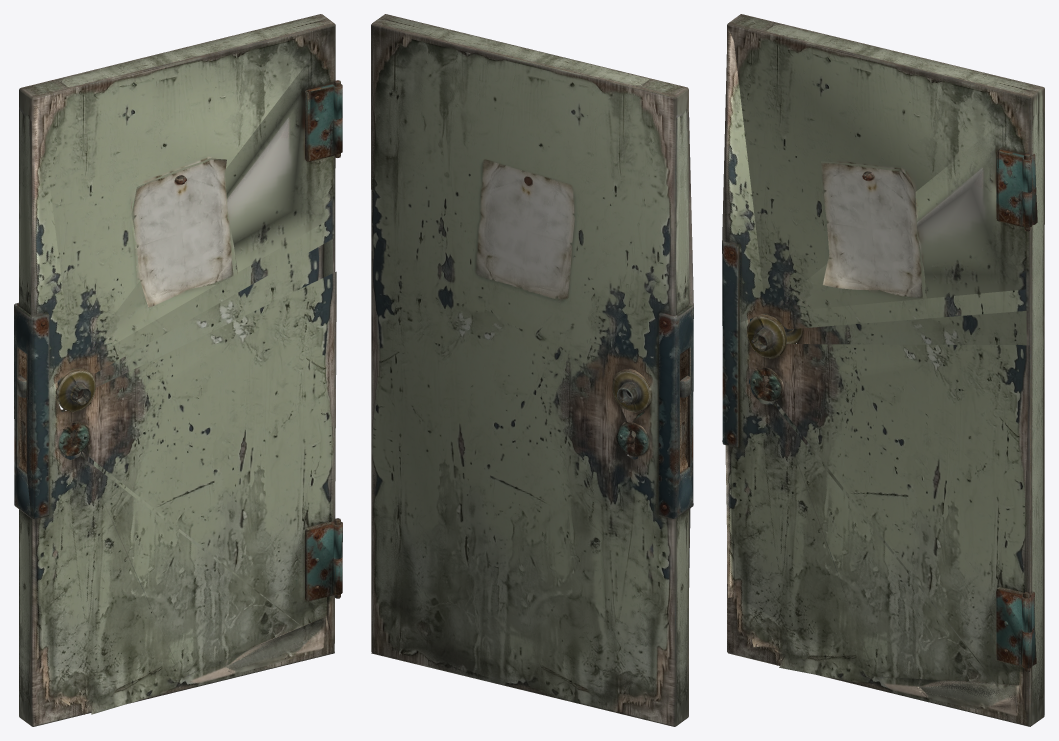
File: silo81_plywood_door_leaf.glb
3 renders of one model, left to right at view 1: azimuth 30°, elevation 25°; view 2: azimuth 150°, elevation 25°; view 3: azimuth 330°, elevation 25°, orthographic.
Size of the model in its own units: 0.4971 by 0.9521 by 0.0913.
Materials: 1 (1 with a texture image).
